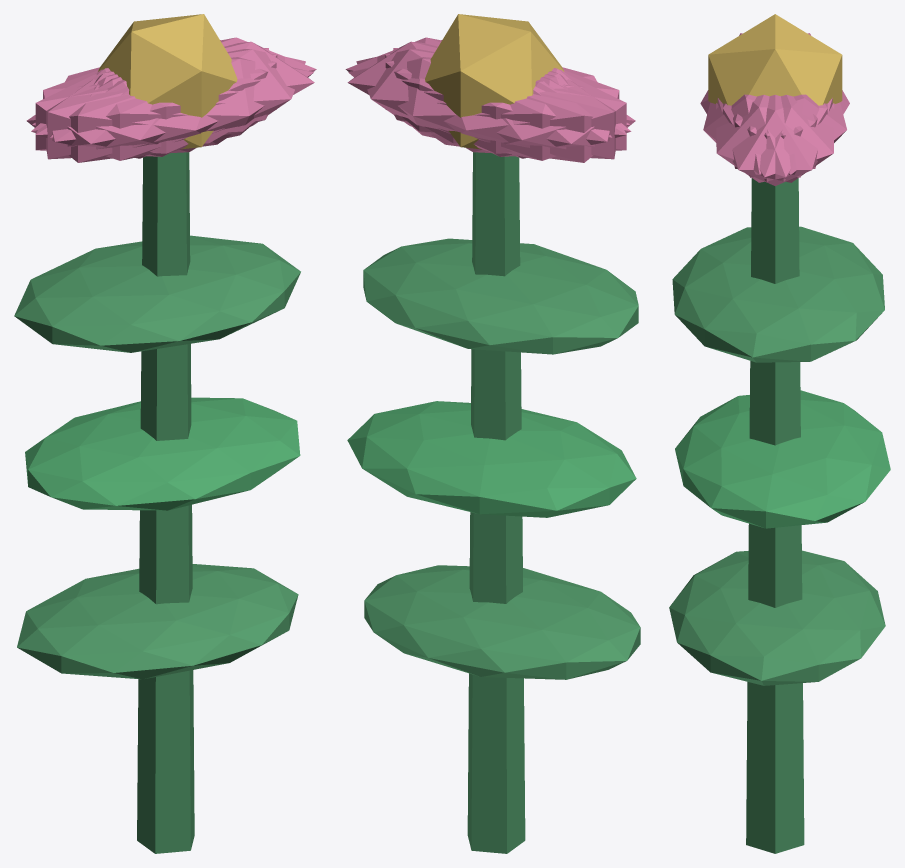
The model's file is commelina-benghalensis.glb.
3 views of the same model, side by side, from view 1: azimuth 30°, elevation 25°; view 2: azimuth 150°, elevation 25°; view 3: azimuth 270°, elevation 25° (orthographic).
Parts seen in each view (by area): view 1: stem, leaf2, leaf0, leaf1, center, petal1, petal6, petal2, petal5, petal7, petal0, petal4 (+2 smaller); view 2: stem, leaf1, leaf2, leaf0, center, petal8, petal3, petal7, petal4, petal2, petal0, petal5 (+2 smaller); view 3: stem, leaf2, leaf1, leaf0, center, petal0, petal5, petal4, petal1, petal8.
Boxes of the visible parts, x1=… form: stem: x1=137, y1=152, x2=194, y2=853; leaf2: x1=14, y1=235, x2=300, y2=352; leaf0: x1=17, y1=564, x2=298, y2=679; leaf1: x1=25, y1=397, x2=300, y2=510; center: x1=98, y1=14, x2=237, y2=149; petal1: x1=31, y1=57, x2=313, y2=160; petal6: x1=26, y1=69, x2=231, y2=162; petal2: x1=46, y1=48, x2=268, y2=159; petal5: x1=50, y1=49, x2=305, y2=153; petal7: x1=35, y1=54, x2=277, y2=156; petal0: x1=97, y1=41, x2=314, y2=143; petal4: x1=32, y1=37, x2=316, y2=135; stem: x1=467, y1=152, x2=525, y2=853; leaf1: x1=347, y1=401, x2=636, y2=517; leaf2: x1=363, y1=238, x2=638, y2=354; leaf0: x1=364, y1=565, x2=640, y2=679; center: x1=425, y1=14, x2=564, y2=149; petal8: x1=348, y1=57, x2=631, y2=160; petal3: x1=431, y1=69, x2=635, y2=162; petal7: x1=393, y1=48, x2=615, y2=159; petal4: x1=356, y1=49, x2=611, y2=153; petal2: x1=385, y1=54, x2=626, y2=156; petal0: x1=347, y1=41, x2=564, y2=143; petal5: x1=345, y1=37, x2=629, y2=135; stem: x1=746, y1=178, x2=804, y2=853; leaf2: x1=672, y1=226, x2=884, y2=362; leaf1: x1=675, y1=390, x2=890, y2=528; leaf0: x1=669, y1=550, x2=885, y2=685; center: x1=708, y1=14, x2=842, y2=105; petal0: x1=717, y1=94, x2=832, y2=185; petal5: x1=716, y1=95, x2=827, y2=182; petal4: x1=723, y1=94, x2=834, y2=182; petal1: x1=703, y1=94, x2=817, y2=174; petal8: x1=733, y1=94, x2=846, y2=174.
Bounding box in the file's own units: 0.1489 × 0.4081 × 0.1013.
